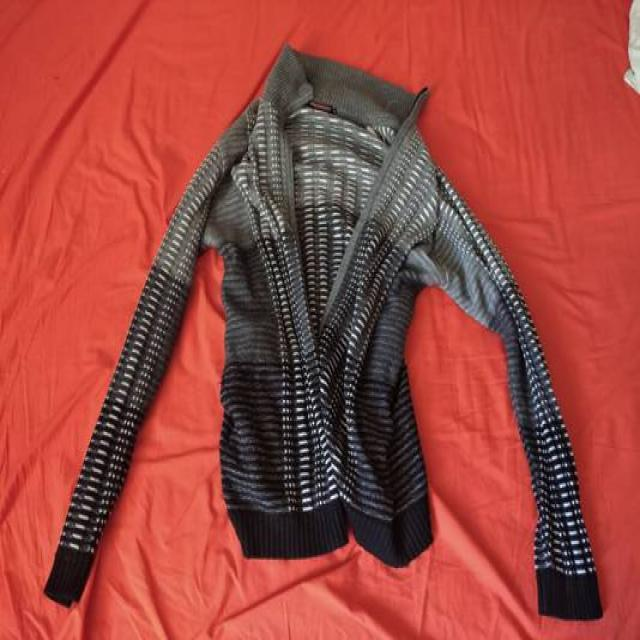Clothes -Biodegradable-: (44, 48, 603, 625)
